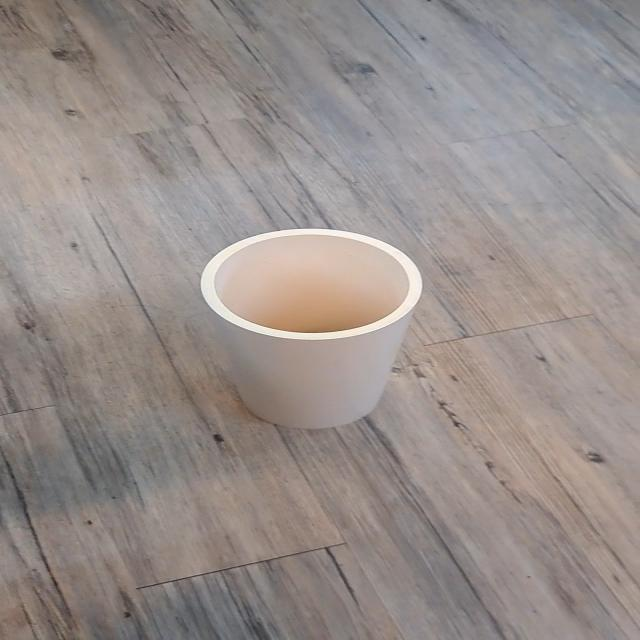CORAL: (163, 208, 480, 441)
